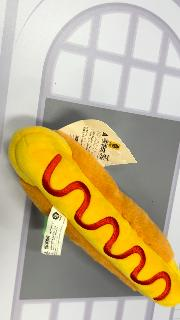hotdog: (9, 125, 180, 307)
